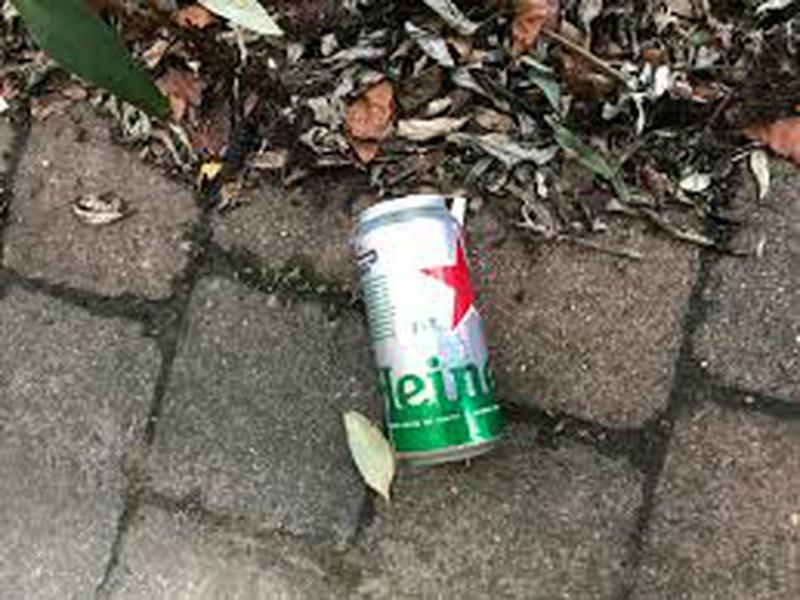can: (336, 189, 517, 468)
